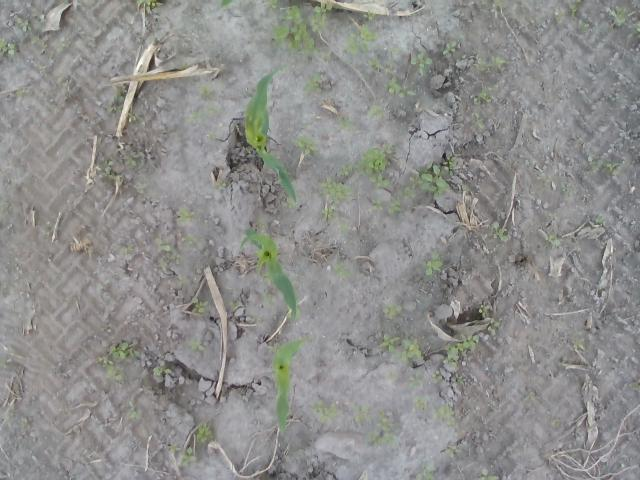Maize: (242, 66, 298, 206), (240, 229, 300, 320), (272, 337, 304, 428)
Weeds: (270, 0, 332, 57), (397, 156, 454, 200), (95, 340, 140, 385), (356, 142, 396, 189), (319, 176, 353, 219), (368, 404, 402, 446), (151, 232, 185, 272), (383, 334, 425, 364), (442, 334, 480, 367), (608, 5, 640, 40), (584, 150, 626, 176), (344, 24, 378, 54), (190, 414, 216, 448), (290, 131, 321, 157), (310, 396, 338, 423), (432, 400, 458, 428), (166, 443, 198, 465), (383, 78, 417, 98), (472, 55, 511, 72), (410, 51, 432, 80), (106, 85, 128, 112), (125, 0, 161, 16), (423, 254, 444, 278), (384, 47, 403, 73), (470, 86, 496, 105), (405, 366, 426, 389), (302, 71, 322, 95), (126, 398, 144, 422), (492, 220, 512, 240), (192, 83, 214, 101), (173, 206, 194, 224), (124, 150, 145, 168), (111, 242, 136, 257), (385, 193, 401, 216), (14, 15, 33, 34), (416, 462, 436, 480), (352, 404, 370, 424), (189, 295, 209, 313), (30, 35, 50, 53), (334, 110, 352, 130), (332, 262, 352, 280), (382, 302, 402, 320), (153, 361, 175, 377), (570, 328, 586, 350), (366, 104, 384, 122), (334, 162, 354, 178), (413, 394, 431, 411), (543, 232, 560, 250), (97, 159, 115, 176), (576, 14, 592, 33), (0, 38, 16, 57), (182, 232, 203, 246), (55, 77, 74, 92), (442, 40, 457, 58), (190, 338, 208, 353), (487, 318, 502, 336), (566, 0, 582, 16), (368, 56, 382, 74), (256, 215, 270, 233), (478, 468, 498, 480), (98, 319, 114, 334), (447, 445, 464, 459), (134, 176, 147, 194), (216, 0, 237, 11), (226, 296, 242, 310), (0, 356, 17, 369), (191, 110, 209, 122), (21, 414, 33, 432), (261, 290, 273, 306), (15, 87, 32, 98), (363, 9, 377, 22), (431, 370, 444, 384), (126, 110, 136, 128), (4, 406, 16, 421), (559, 182, 575, 193), (608, 93, 624, 104), (336, 223, 352, 234), (207, 103, 226, 112), (281, 196, 293, 210), (370, 198, 384, 210), (262, 0, 280, 9), (215, 179, 228, 190), (192, 263, 204, 274), (278, 418, 288, 431), (479, 304, 489, 316), (265, 343, 278, 352), (206, 131, 217, 141), (550, 417, 561, 427), (262, 271, 272, 282), (478, 116, 487, 128), (594, 214, 604, 224), (526, 390, 536, 400), (0, 206, 9, 217), (256, 316, 264, 327), (630, 382, 640, 390), (38, 64, 48, 72), (76, 0, 81, 16), (244, 228, 256, 234), (178, 64, 188, 70), (154, 46, 161, 54), (255, 249, 262, 255), (63, 0, 69, 5)
